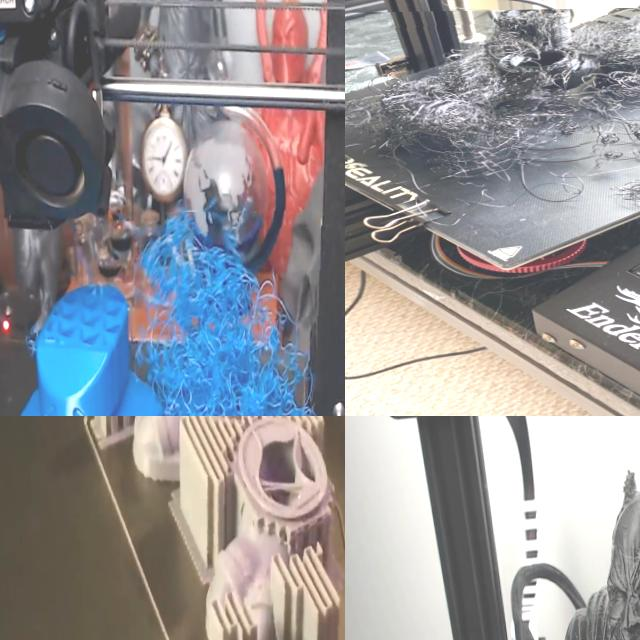spaghetti: (345, 5, 640, 174), (135, 211, 317, 416), (605, 170, 640, 212)
